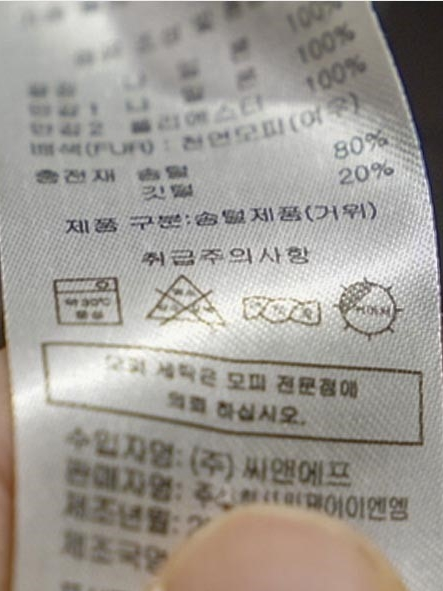KR_flat_dry_in_shade: (334, 271, 405, 344)
KR_gentle_wring: (234, 274, 328, 338)
KR_no_bleach: (145, 267, 229, 334)
KR_wash_warm_30_neutral: (46, 269, 129, 333)
